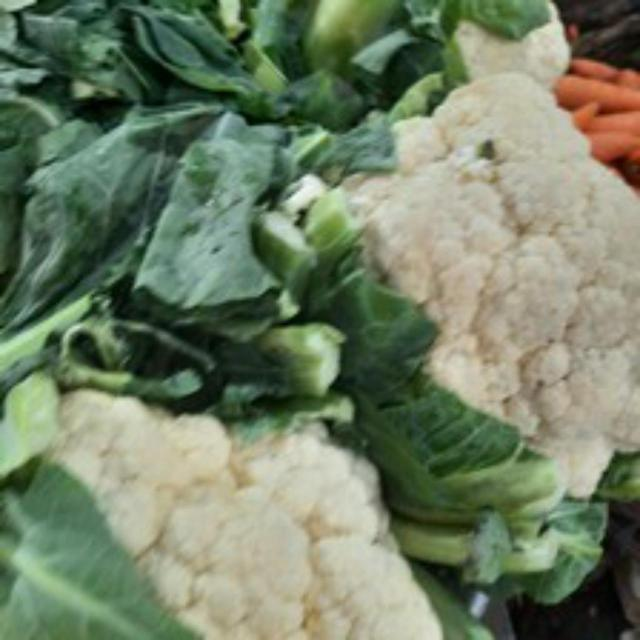cauliflower: (256, 64, 640, 532)
